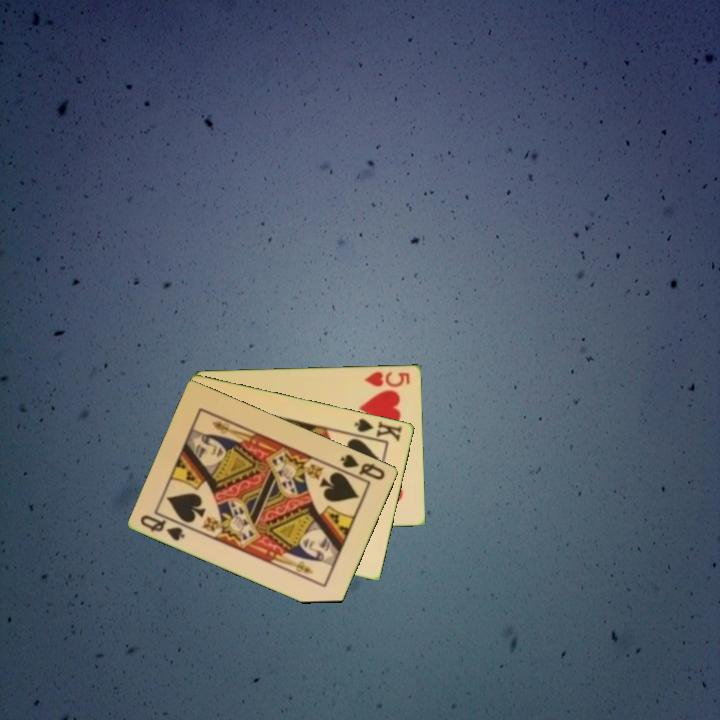5h: (361, 368, 413, 390)
Ks: (349, 415, 405, 444)
Qs: (337, 450, 388, 483), (137, 511, 188, 544)
